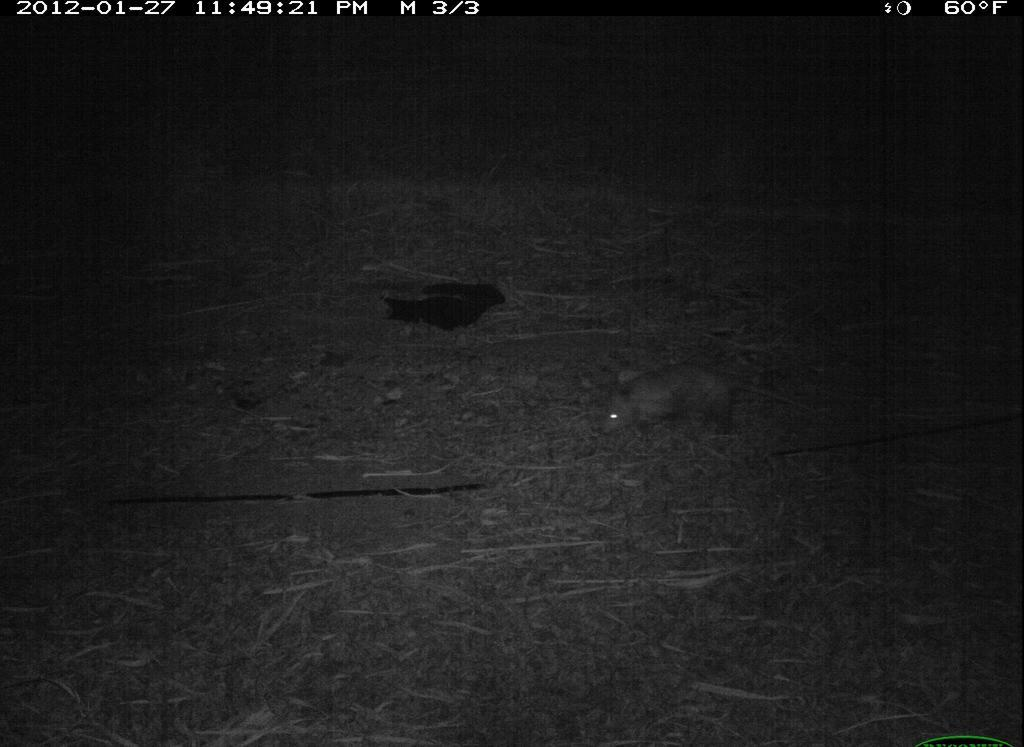opossum: (596, 354, 812, 461)
